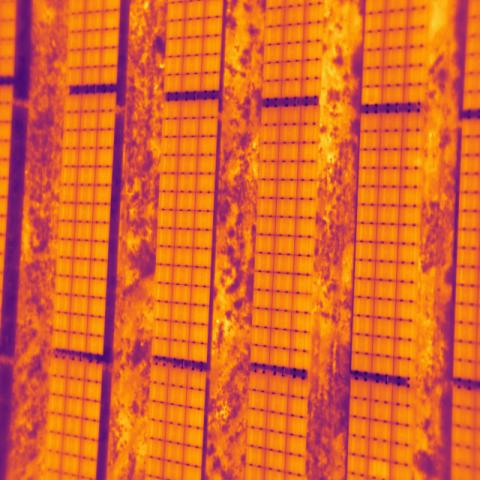fault: (367, 457, 391, 480)
